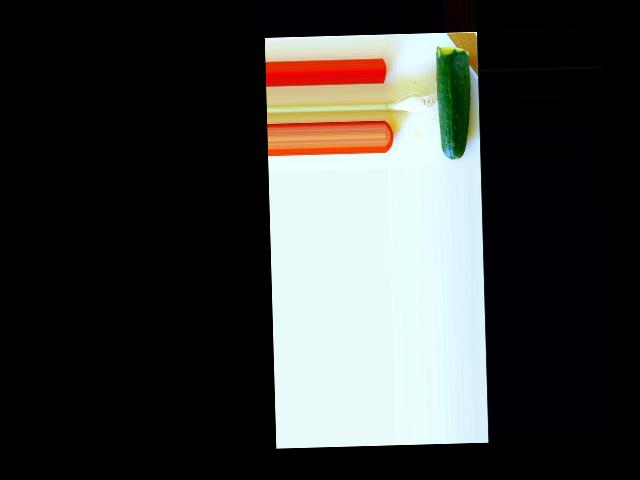cucumber: (436, 45, 472, 161)
